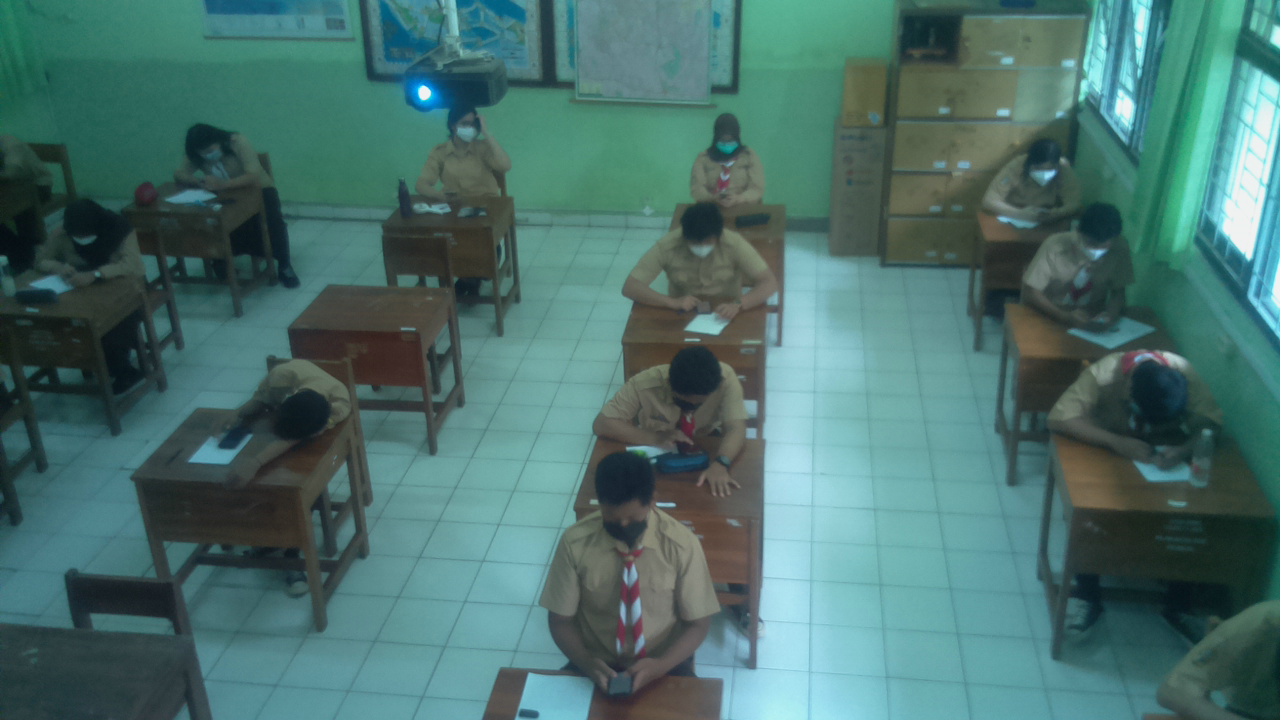Student: (554, 452, 712, 654), (1073, 349, 1208, 445), (627, 345, 745, 443), (1031, 203, 1131, 308), (663, 207, 754, 301), (259, 357, 354, 435), (51, 197, 139, 277), (987, 135, 1073, 214), (429, 105, 504, 194), (695, 111, 766, 200), (187, 127, 258, 185)
